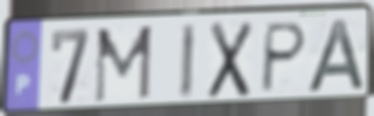7: (49, 26, 92, 108)
A: (304, 16, 369, 94)
I: (178, 21, 198, 102)
M: (92, 23, 155, 107)
P: (258, 20, 310, 96)
X: (206, 19, 256, 102)
